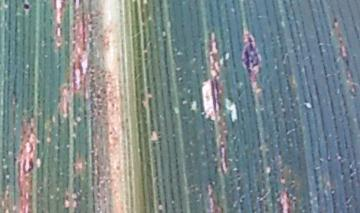tarspot: (237, 30, 264, 79), (19, 2, 34, 12)
